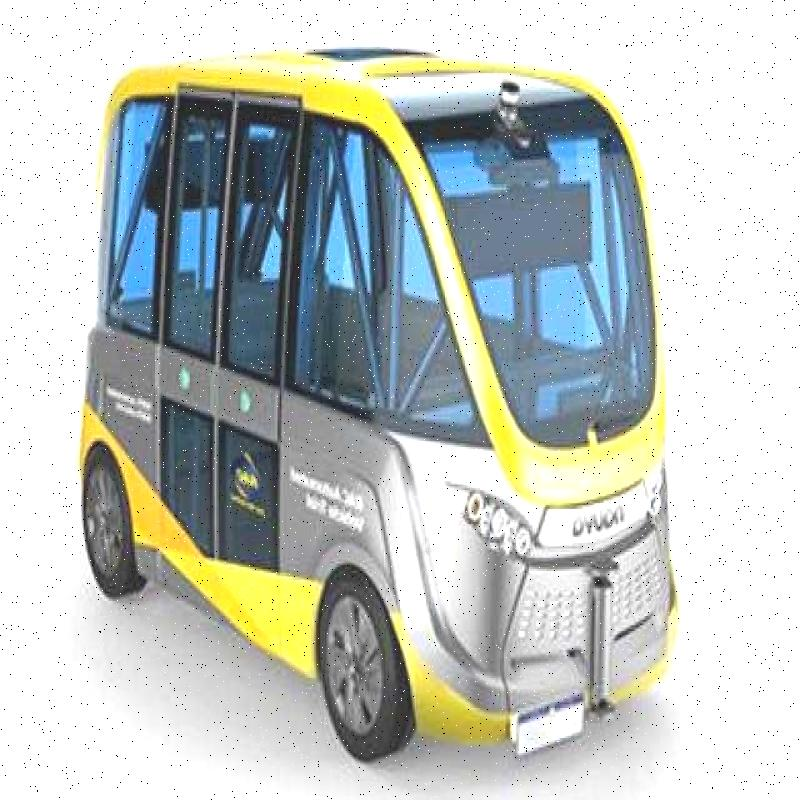bus: (47, 34, 682, 698)
